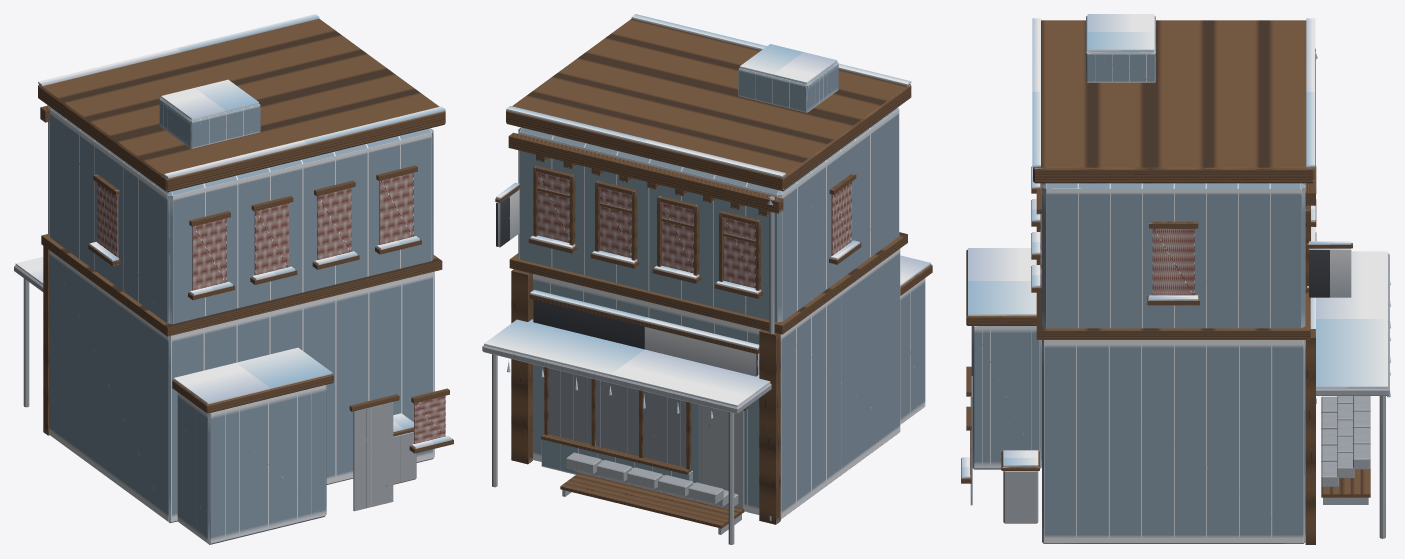
Rendered from ck_shop_grocer.fbx.
3 renders of one model, left to right at view 1: azimuth 30°, elevation 25°; view 2: azimuth 150°, elevation 25°; view 3: azimuth 270°, elevation 25°, orthographic. The views are drawn at different scales.
Parts seen in each view (by area): view 1: ck_shop_grocer; view 2: ck_shop_grocer; view 3: ck_shop_grocer.
Boxes of the visible parts, <box> form: ck_shop_grocer: <box>14,14,453,544</box>; ck_shop_grocer: <box>482,14,932,544</box>; ck_shop_grocer: <box>961,14,1390,544</box>.
Bounding box in the file's own units: 1948 × 2500 × 2359.
